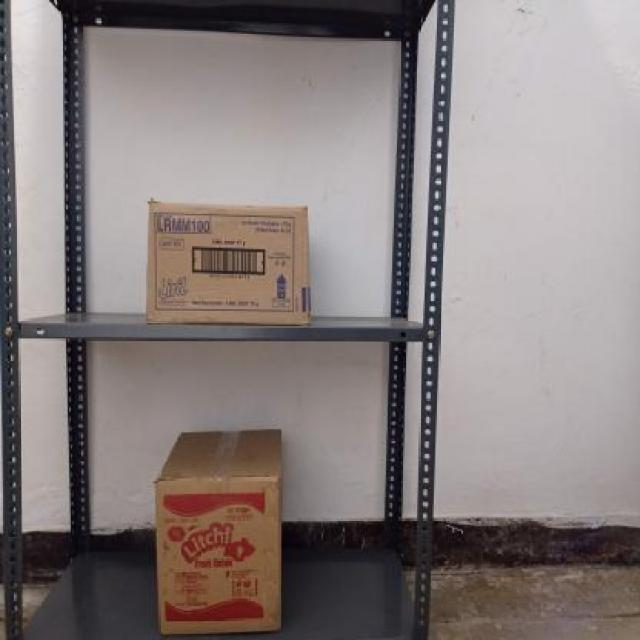box: (147, 200, 310, 326), (154, 477, 282, 634)
